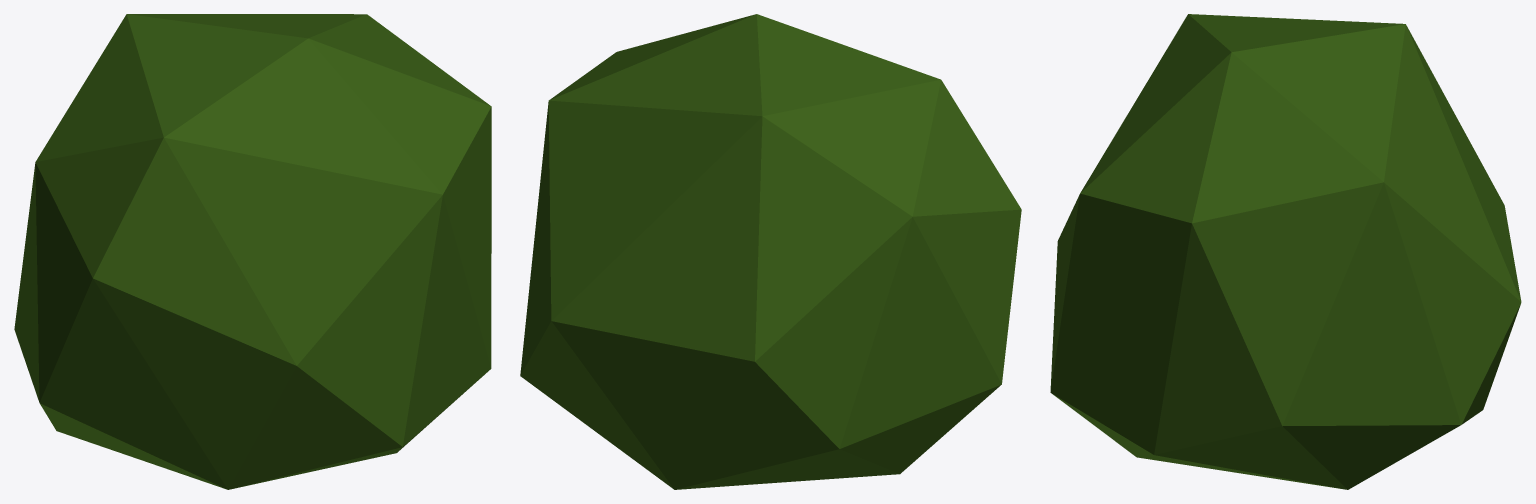
3 views of the same model, side by side, from view 1: azimuth 30°, elevation 25°; view 2: azimuth 150°, elevation 25°; view 3: azimuth 270°, elevation 25° (orthographic). The views are drawn at different scales.
Visible parts, largest first — view 1: Bush; view 2: Bush; view 3: Bush.
Part boxes in pixels (bbox=[...]): Bush: bbox=[14, 14, 491, 489]; Bush: bbox=[520, 14, 1021, 489]; Bush: bbox=[1050, 14, 1521, 489].
Bounding box in the file's own units: 1.53 × 1.24 × 1.38.
1 material, 1 textured.
